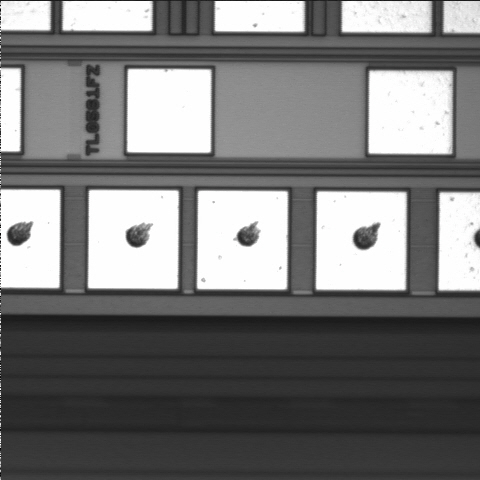pad: (197, 191, 288, 289), (88, 190, 178, 289), (316, 192, 406, 290), (127, 69, 211, 153), (369, 71, 452, 154)
